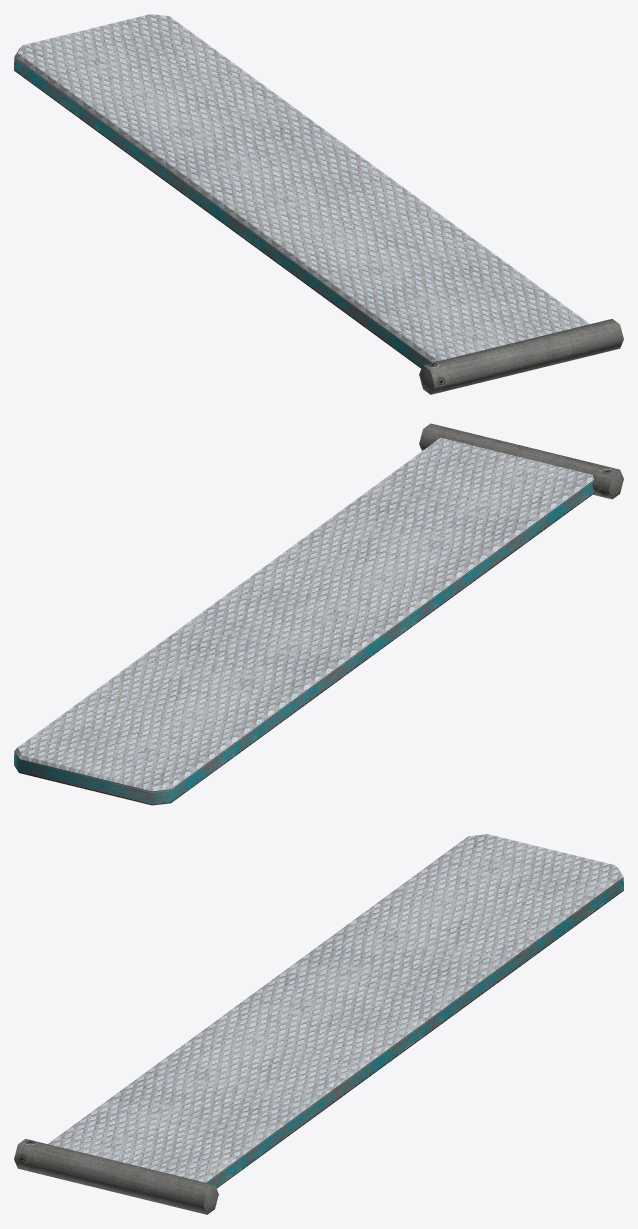
File: M_Home_Garden_Diving_Board_Plank.fbx
The picture shows the model from 3 angles, top to bottom: view 1: azimuth 30°, elevation 25°; view 2: azimuth 150°, elevation 25°; view 3: azimuth 330°, elevation 25°; orthographic projection.
Parts seen in each view (by area): view 1: M_Home_Garden_Diving_Board_Plank; view 2: M_Home_Garden_Diving_Board_Plank; view 3: M_Home_Garden_Diving_Board_Plank.
Part boxes in pixels (box(x1,y1,x2,y2)): M_Home_Garden_Diving_Board_Plank: box(14, 14, 623, 394); M_Home_Garden_Diving_Board_Plank: box(14, 423, 623, 805); M_Home_Garden_Diving_Board_Plank: box(14, 834, 623, 1214).
Bounding box in the file's own units: 120 × 13.8 × 458.
